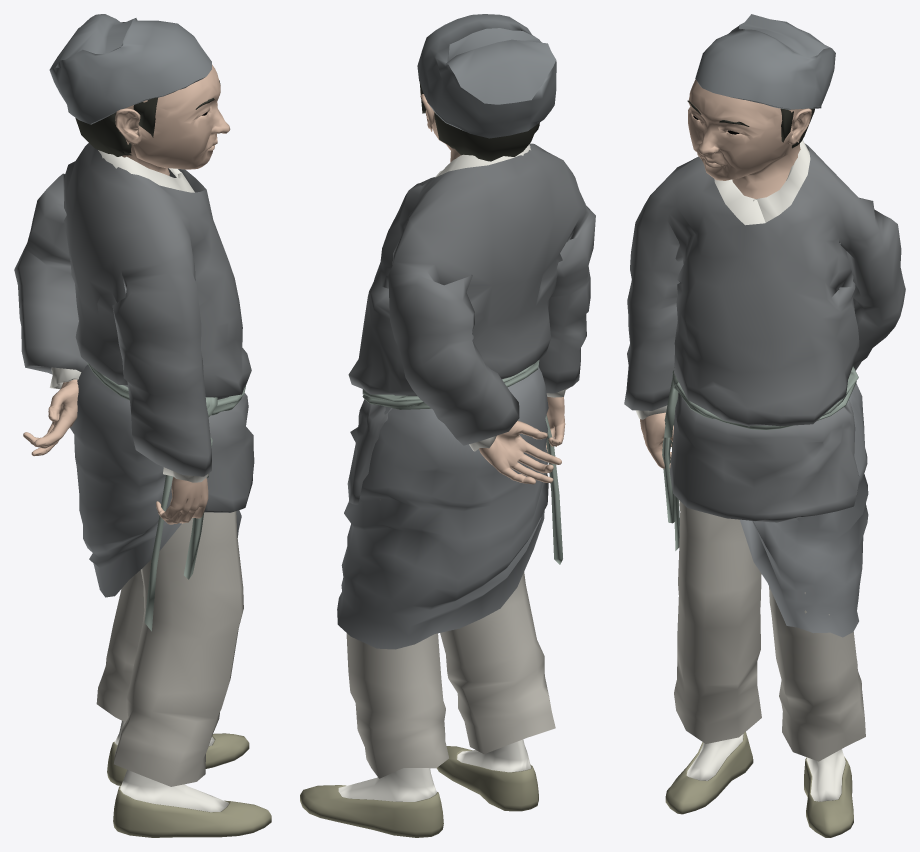
3 renders of one model, left to right at view 1: azimuth 30°, elevation 25°; view 2: azimuth 150°, elevation 25°; view 3: azimuth 270°, elevation 25°, orthographic. The views are drawn at different scales.
Visible parts, largest first — view 1: 衙役057; view 2: 衙役057; view 3: 衙役057.
Part boxes in pixels (bbox=[...]): 衙役057: bbox=[14, 14, 271, 837]; 衙役057: bbox=[300, 14, 595, 837]; 衙役057: bbox=[624, 14, 905, 837].
Bounding box in the file's own units: 53.13 × 167 × 57.98.
